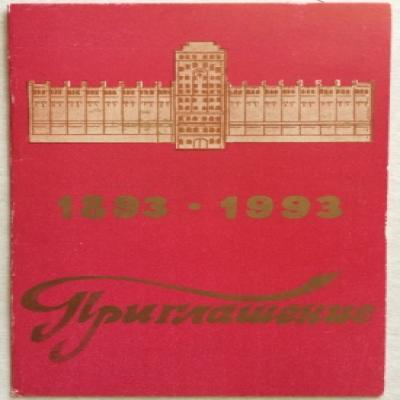document: (8, 3, 387, 398)
